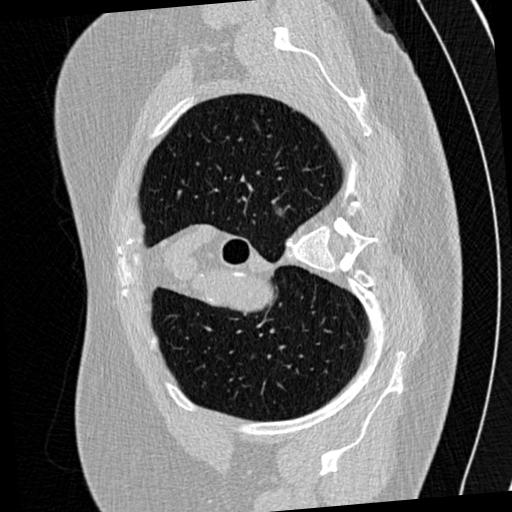nodule: (272, 205, 286, 219)
